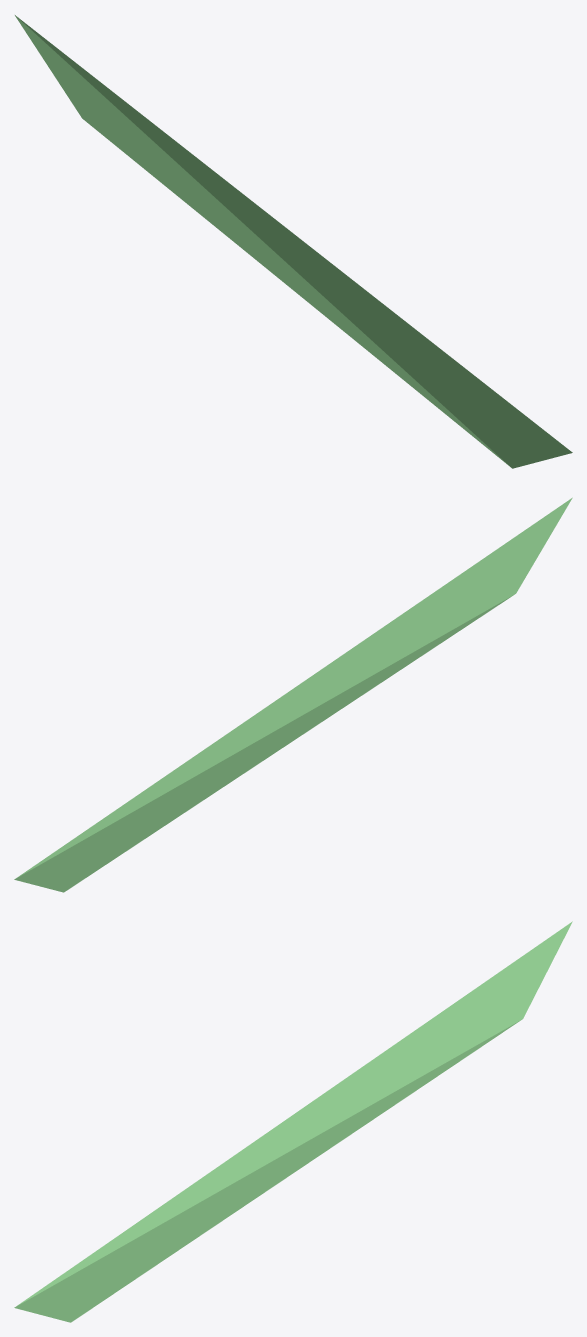
File: linkhou_LR4_R560_link5_respondable_coll_13.dae
The picture shows the model from 3 angles, top to bottom: view 1: azimuth 30°, elevation 25°; view 2: azimuth 150°, elevation 25°; view 3: azimuth 330°, elevation 25°; orthographic projection. The views are drawn at different scales.
Visible parts, largest first — view 1: Node_00000209DB3ABE50; view 2: Node_00000209DB3ABE50; view 3: Node_00000209DB3ABE50.
Part boxes in pixels (x1,y1,x2,y2): Node_00000209DB3ABE50: [15, 15, 572, 468]; Node_00000209DB3ABE50: [14, 497, 572, 892]; Node_00000209DB3ABE50: [14, 921, 572, 1322].
Size of the model in its own units: 0.00088 by 0.00155 by 0.026.
